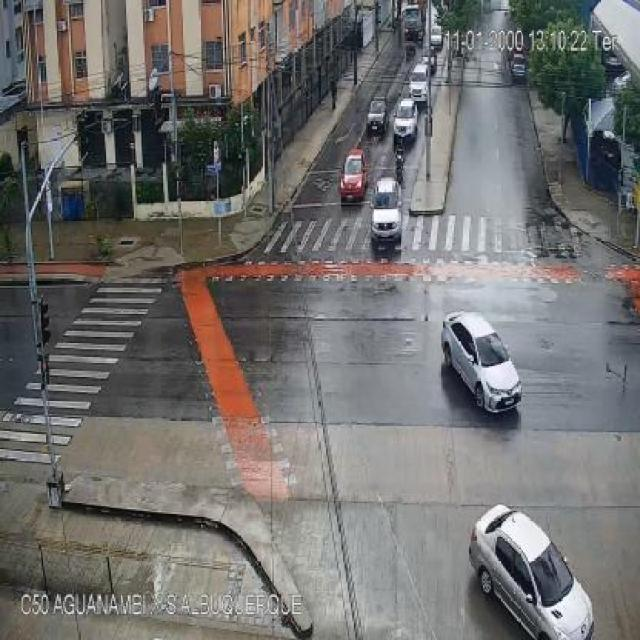Car: (467, 504, 598, 639), (438, 306, 530, 428), (370, 177, 400, 243), (335, 151, 371, 200), (363, 84, 391, 146), (393, 86, 419, 146), (430, 14, 446, 53), (418, 46, 442, 71)
Cycle: (394, 144, 409, 185)
Truck: (396, 0, 426, 48)
Van: (411, 58, 433, 102)
